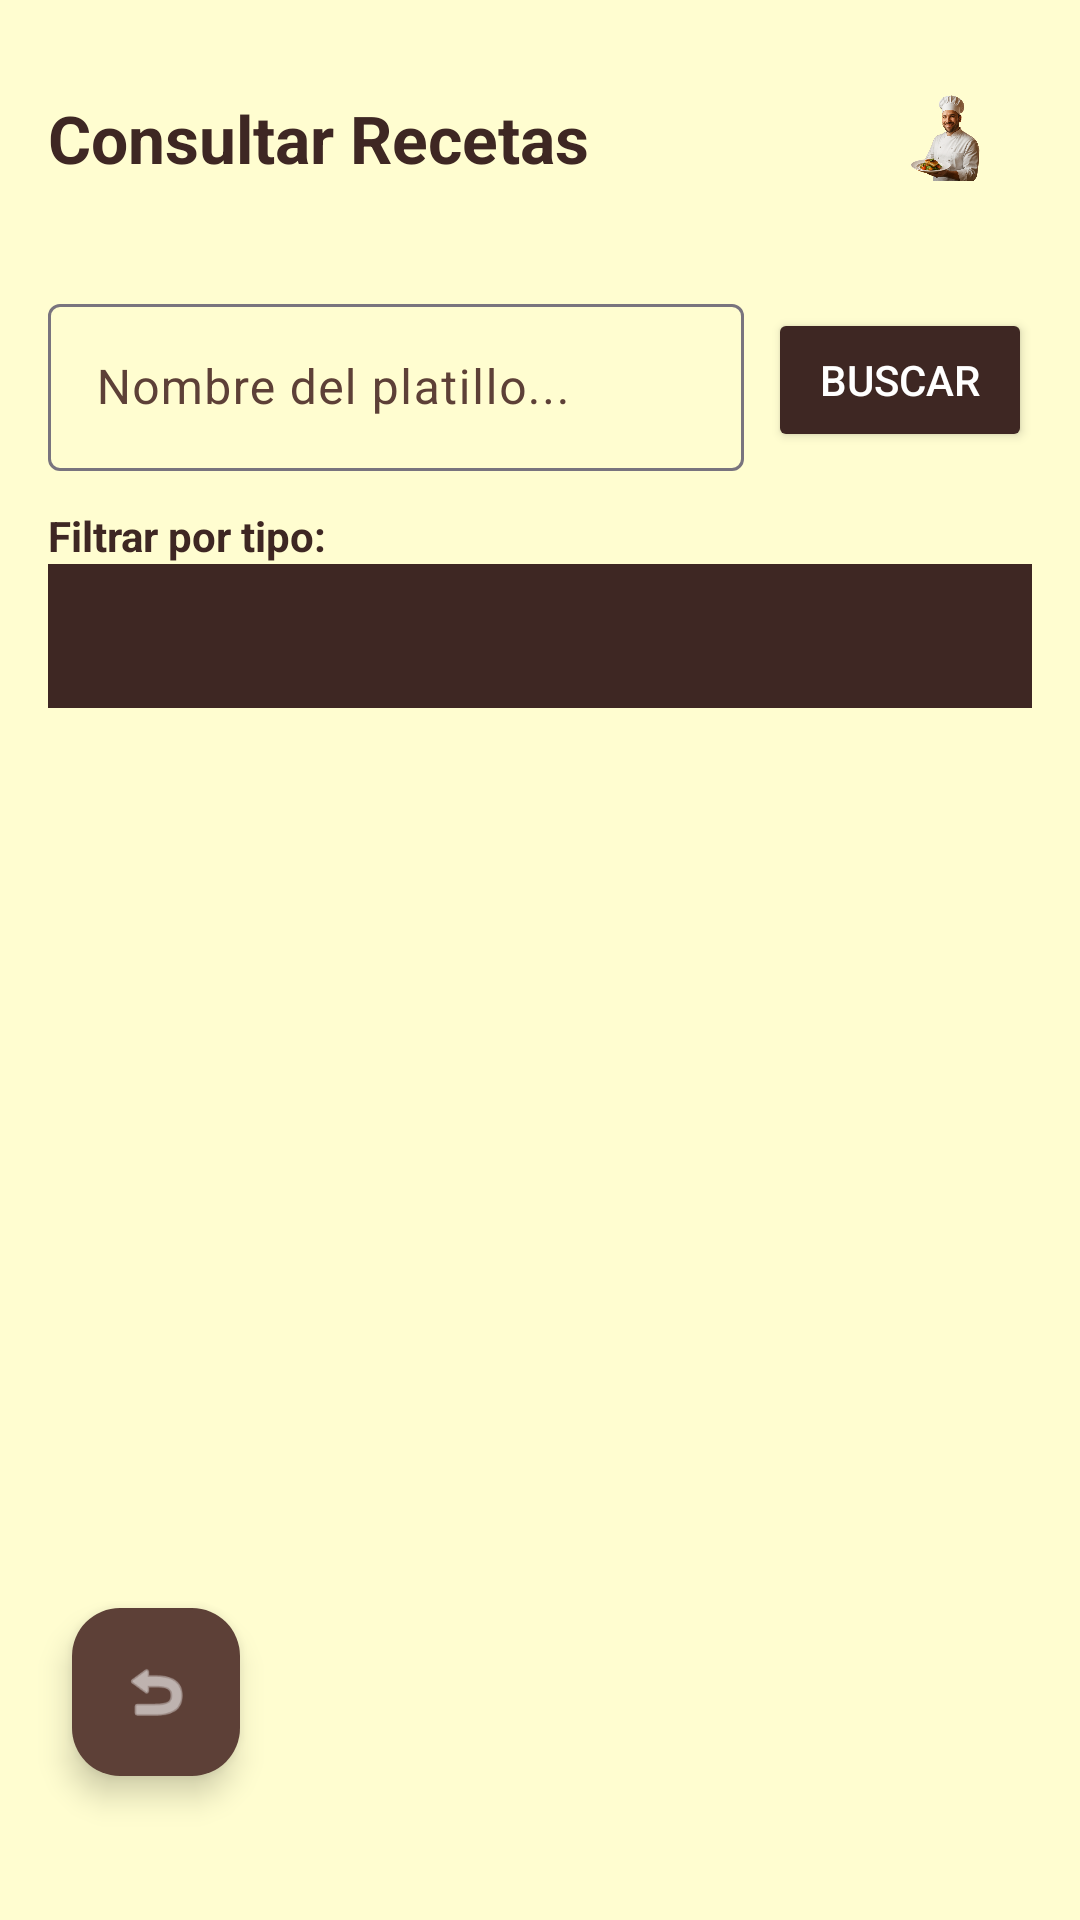

Icons on this 1080px×1920px Android screen, each with the point to tap as (x=x, y=y):
Volver al registro: (x=156, y=1692)
